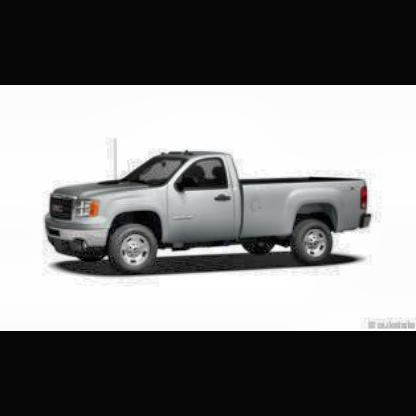Chevrolet Silverado 2500HD Regular Cab 2012: (46, 150, 373, 275)
